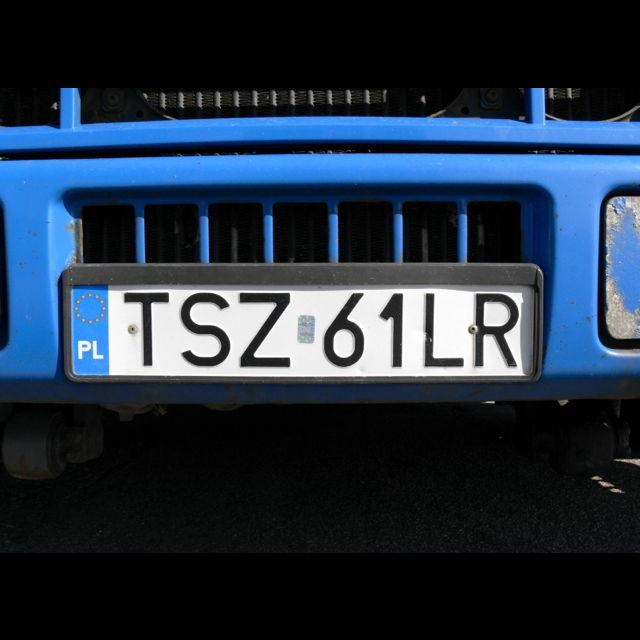pl_license_plate: (68, 286, 536, 374)
